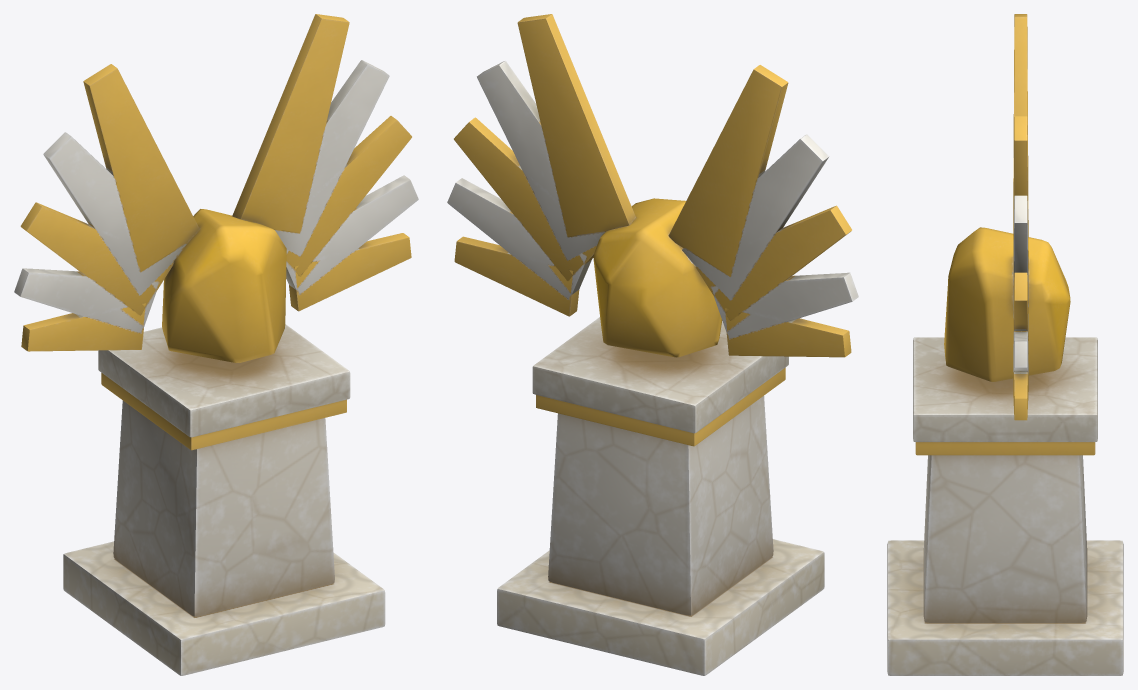
File: Divin_Statue.fbx
3 views of the same model, side by side, from view 1: azimuth 30°, elevation 25°; view 2: azimuth 150°, elevation 25°; view 3: azimuth 270°, elevation 25° (orthographic). The views are drawn at different scales.
Visible parts, largest first — view 1: Divin_Statue; view 2: Divin_Statue; view 3: Divin_Statue.
Boxes of the visible parts, left/top/right/bottom form: Divin_Statue: left=14, top=14, right=418, bottom=675; Divin_Statue: left=447, top=14, right=858, bottom=675; Divin_Statue: left=887, top=14, right=1123, bottom=675.
Size of the model in its own units: 894 by 1205 by 460.
Materials: 1 (1 with a texture image).
